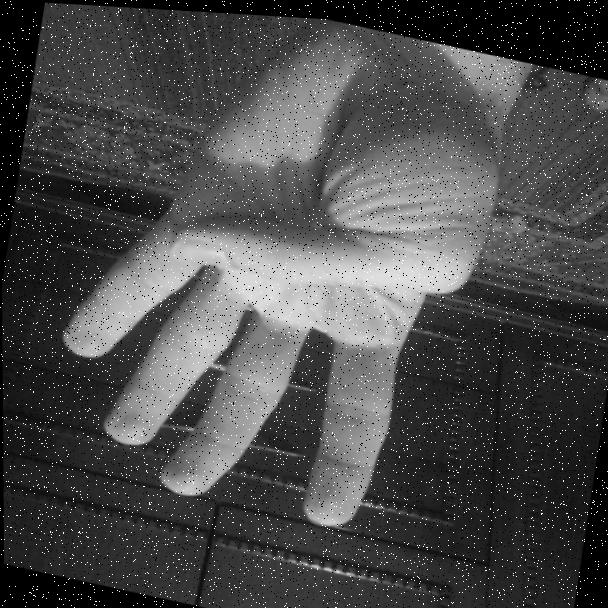four: (43, 6, 509, 554)
